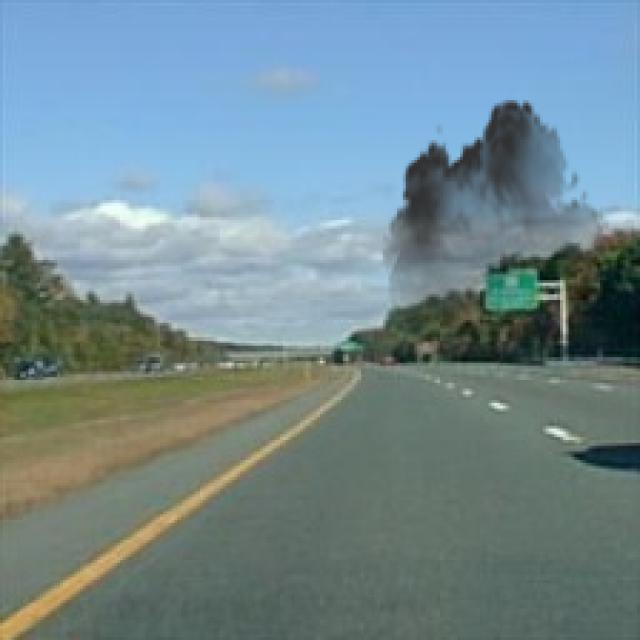Smoke: (383, 88, 611, 352)
